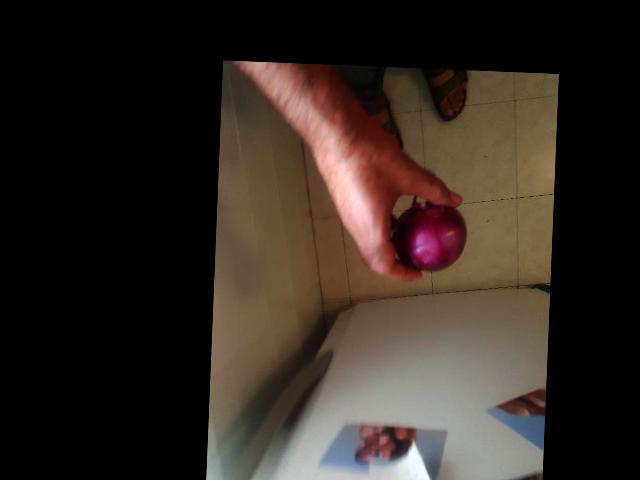onion: (394, 198, 464, 273)
